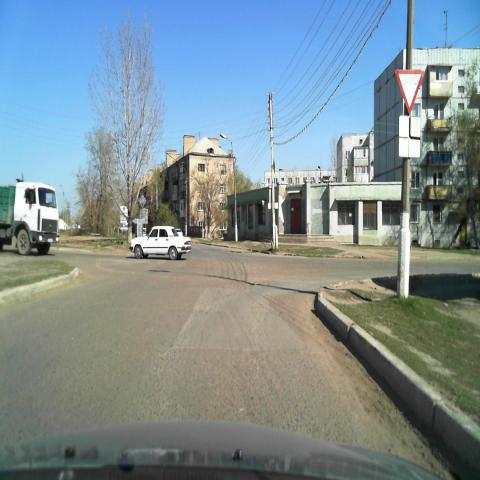8_13: (398, 116, 420, 158)
